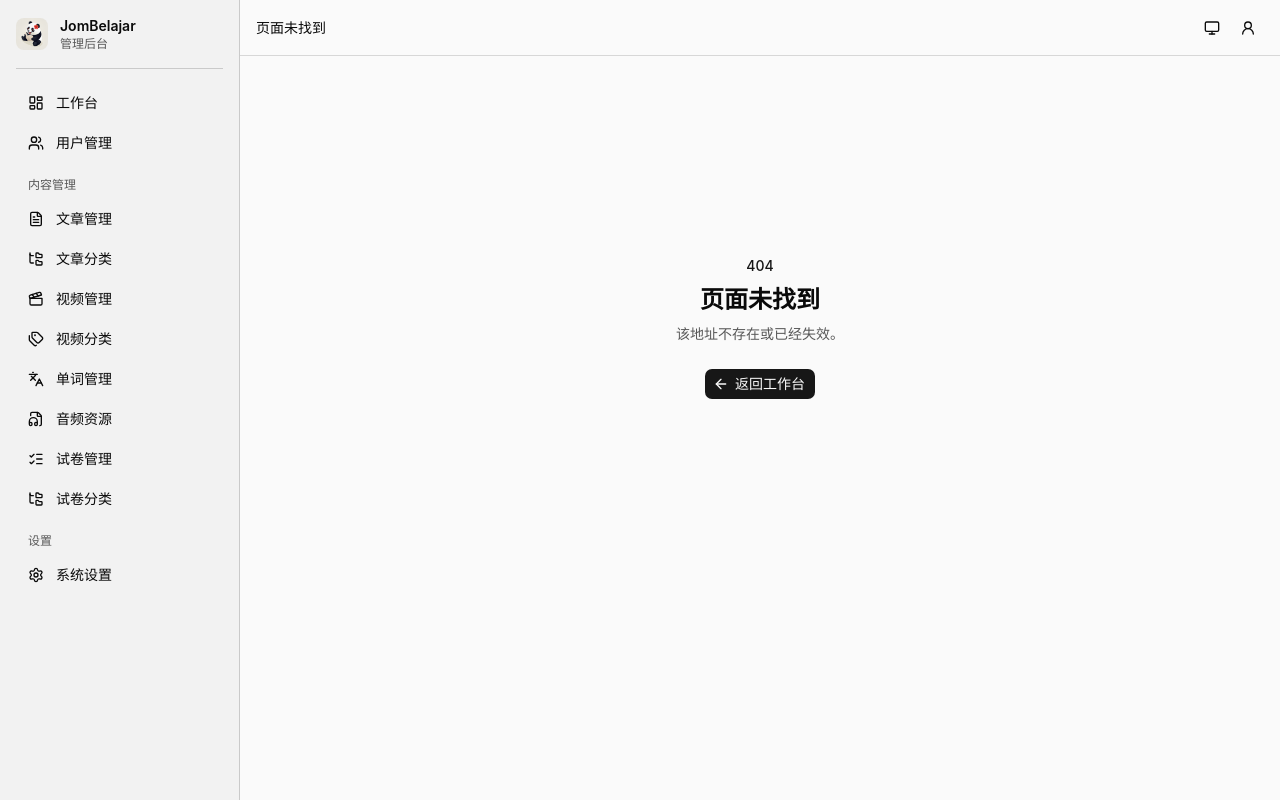
Test: admin routes › renders a 404 for an unknown path and returns to the dashboard
The width and height of the screenshot is (1280, 800).
Expected: the heading "页面未找到" is shown, x1=700 y1=284 x2=820 y2=316
Click the link "返回工作台" at (760, 384), box x1=704 y1=368 x2=816 y2=400
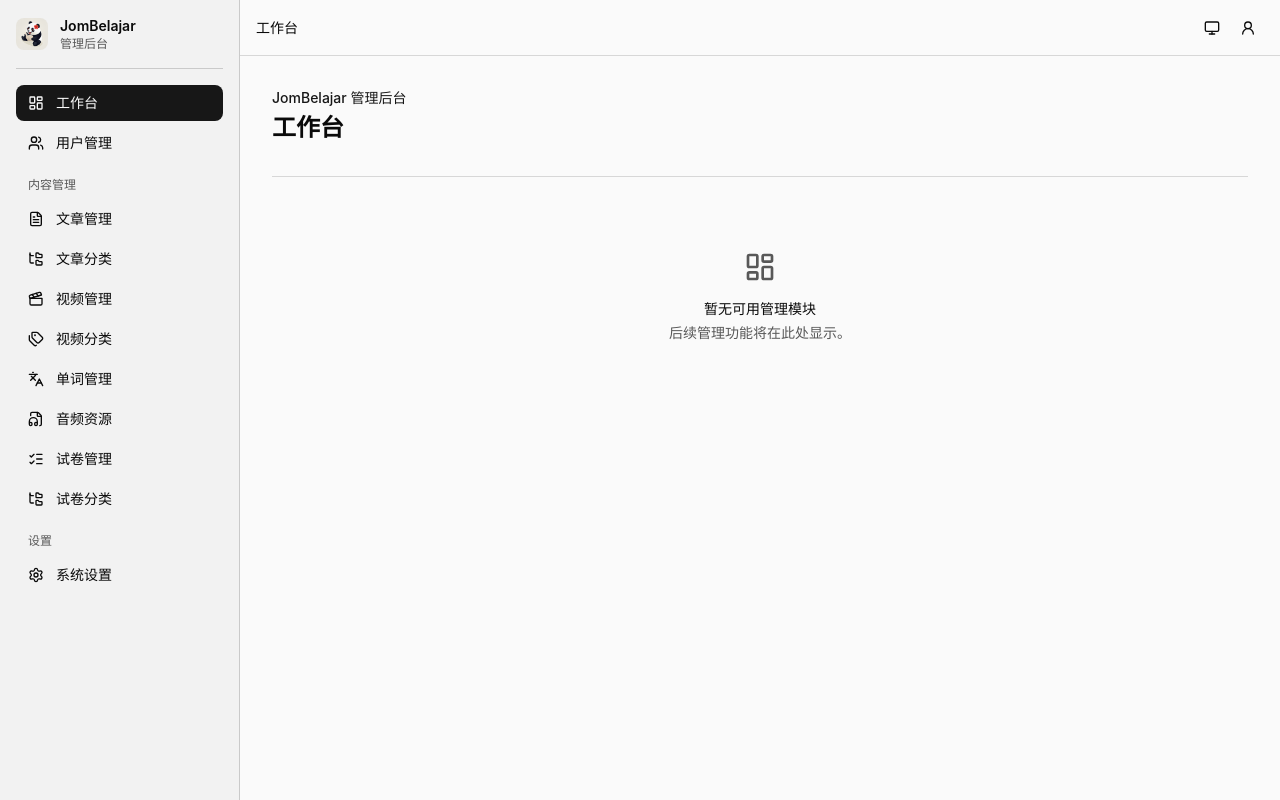
Expected: the heading "工作台" is shown, x1=272 y1=113 x2=344 y2=142
